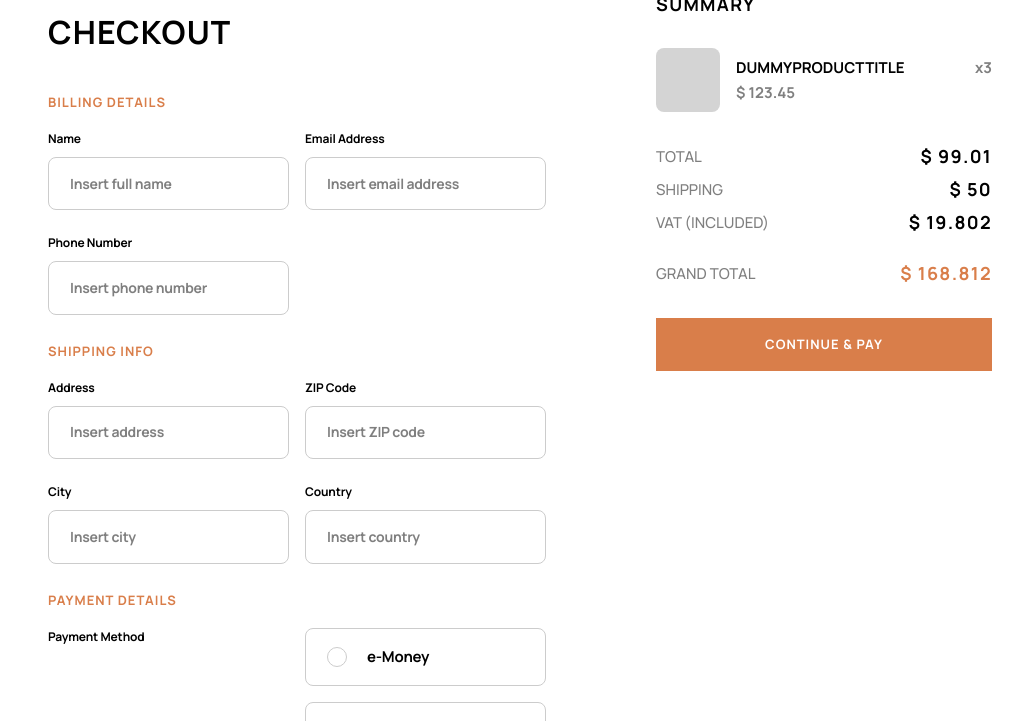
Test case: Functionality › Clicking `e-Money` radio reveals two inputs: e-money number, e-money pin
The image size is (1024, 721).
Expected: the field with placeholder "Insert e-Money number" is not shown
Step 1. Click the radio button labelled "e-Money" → {"x": 337, "y": 657}, box [327,647,347,667]
(page scrolled)
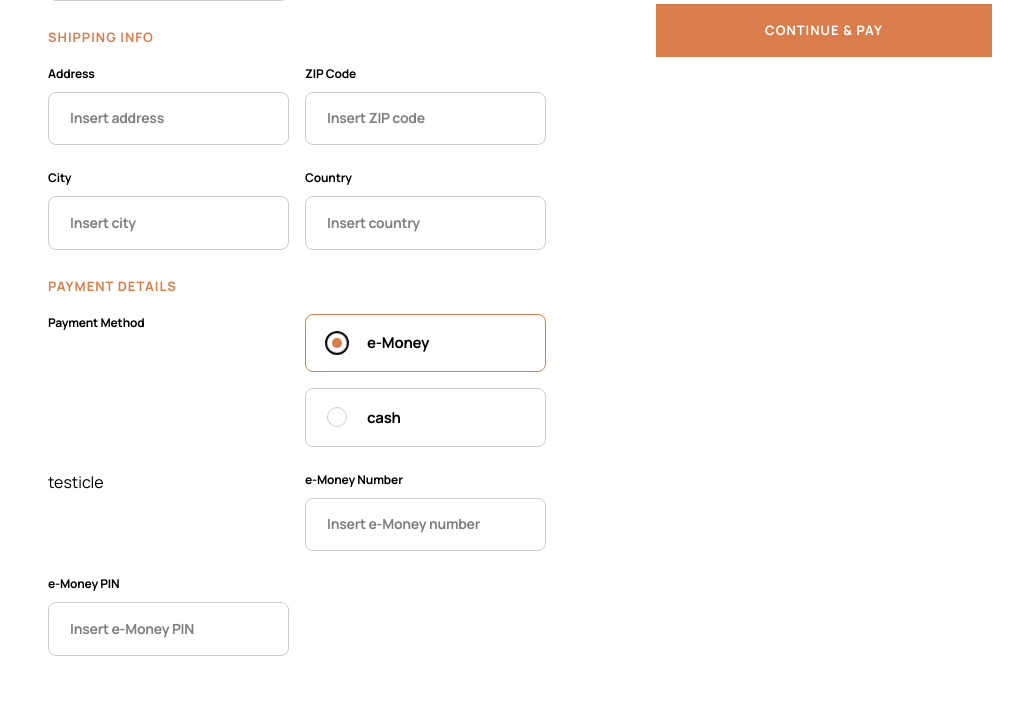
Result: the field with placeholder "Insert e-Money number" is shown at [305,498,546,551]
